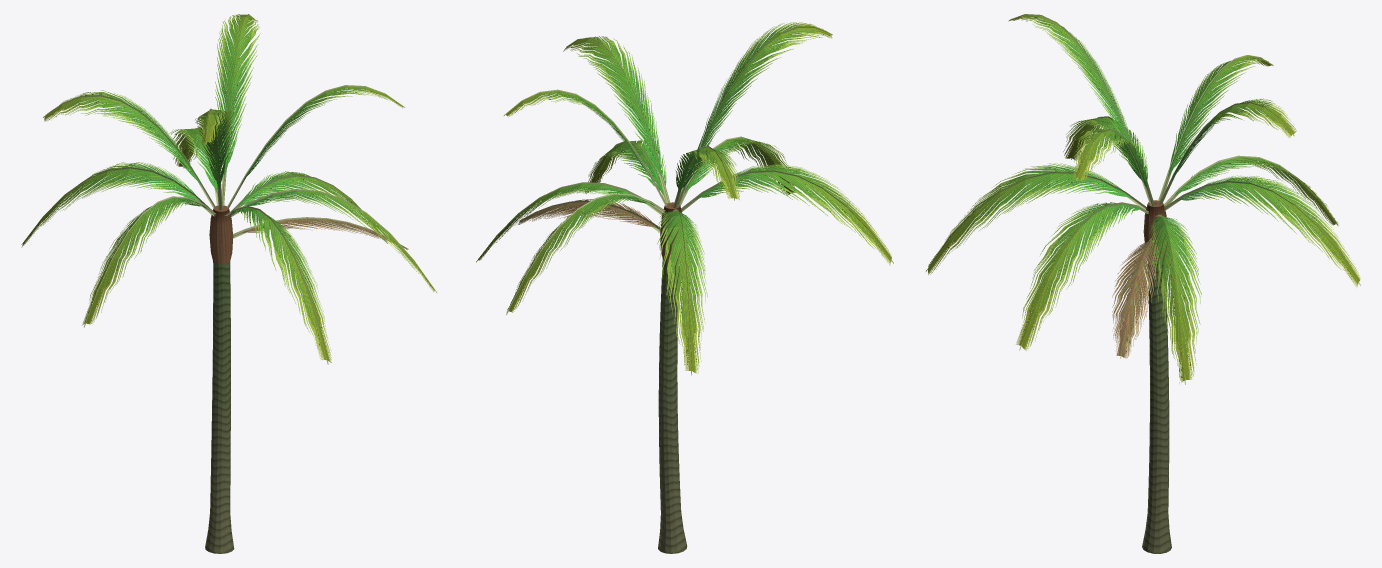
Rendered from pohon_pinang.glb.
The picture shows the model from 3 angles, left to right: view 1: azimuth 30°, elevation 25°; view 2: azimuth 150°, elevation 25°; view 3: azimuth 270°, elevation 25°; orthographic projection.
Visible parts, largest first — view 1: Daun_Pinang_Menyirip_Hijau, Batang_Cincin_Pohon_Pinang, Tulang_Pelepah_Pinang, Pelepah_Mahkota_Pinang_Cokelat, Daun_Pinang_Kering_Kanan; view 2: Daun_Pinang_Menyirip_Hijau, Batang_Cincin_Pohon_Pinang, Tulang_Pelepah_Pinang, Daun_Pinang_Kering_Kanan; view 3: Daun_Pinang_Menyirip_Hijau, Batang_Cincin_Pohon_Pinang, Daun_Pinang_Kering_Kanan, Tulang_Pelepah_Pinang, Pelepah_Mahkota_Pinang_Cokelat.
Part boxes in pixels (<box>): Daun_Pinang_Menyirip_Hijau: <box>21,14,434,362</box>; Batang_Cincin_Pohon_Pinang: <box>205,261,234,553</box>; Tulang_Pelepah_Pinang: <box>21,14,437,364</box>; Pelepah_Mahkota_Pinang_Cokelat: <box>209,205,233,264</box>; Daun_Pinang_Kering_Kanan: <box>233,218,407,249</box>; Daun_Pinang_Menyirip_Hijau: <box>476,22,891,373</box>; Batang_Cincin_Pohon_Pinang: <box>658,259,687,553</box>; Tulang_Pelepah_Pinang: <box>476,27,893,375</box>; Daun_Pinang_Kering_Kanan: <box>518,199,660,230</box>; Daun_Pinang_Menyirip_Hijau: <box>928,14,1360,383</box>; Batang_Cincin_Pohon_Pinang: <box>1142,258,1171,553</box>; Daun_Pinang_Kering_Kanan: <box>1112,239,1157,358</box>; Tulang_Pelepah_Pinang: <box>925,14,1360,384</box>; Pelepah_Mahkota_Pinang_Cokelat: <box>1143,200,1167,260</box>.
Size of the model in its own units: 3.66 by 4.7 by 3.78.
5 materials, 4 textured.
